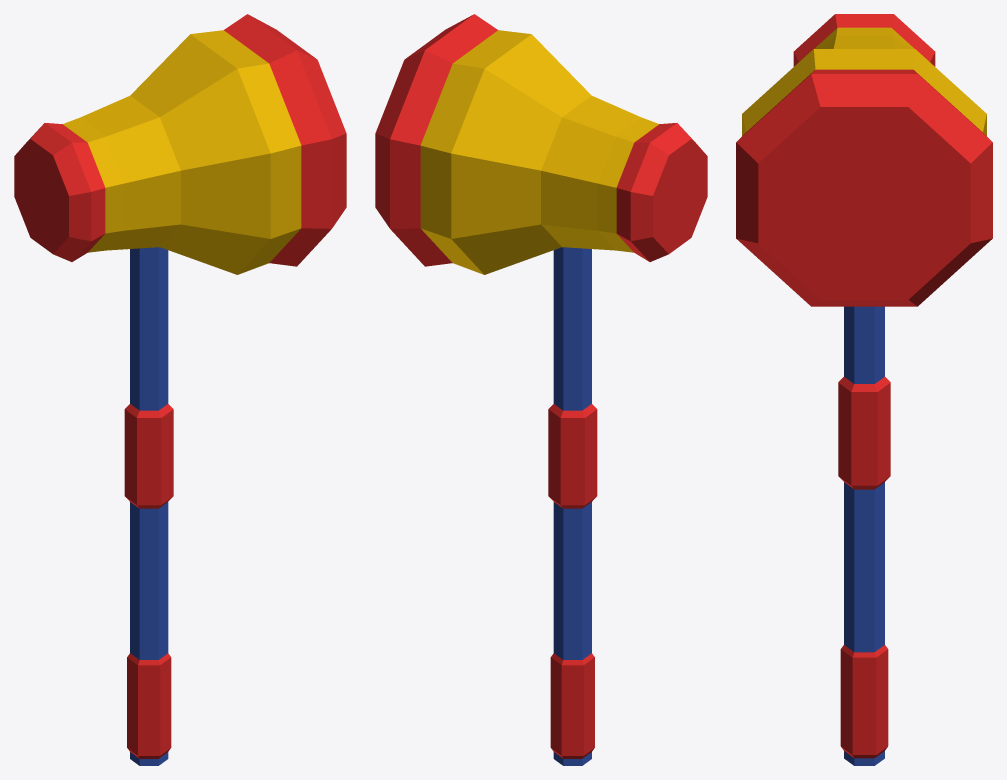
File: HammerTwoHanded.fbx
3 renders of one model, left to right at view 1: azimuth 30°, elevation 25°; view 2: azimuth 150°, elevation 25°; view 3: azimuth 270°, elevation 25°, orthographic. The views are drawn at different scales.
Parts seen in each view (by area): view 1: HammerTwoHanded; view 2: HammerTwoHanded; view 3: HammerTwoHanded.
Boxes of the visible parts, <box> form: HammerTwoHanded: <box>14,14,346,765</box>; HammerTwoHanded: <box>375,14,707,765</box>; HammerTwoHanded: <box>736,14,992,765</box>.
Bounding box in the file's own units: 48.88 × 127 × 39.6.
